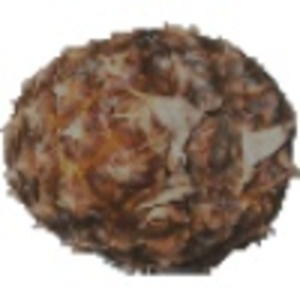abacaxi: (4, 15, 299, 266)
